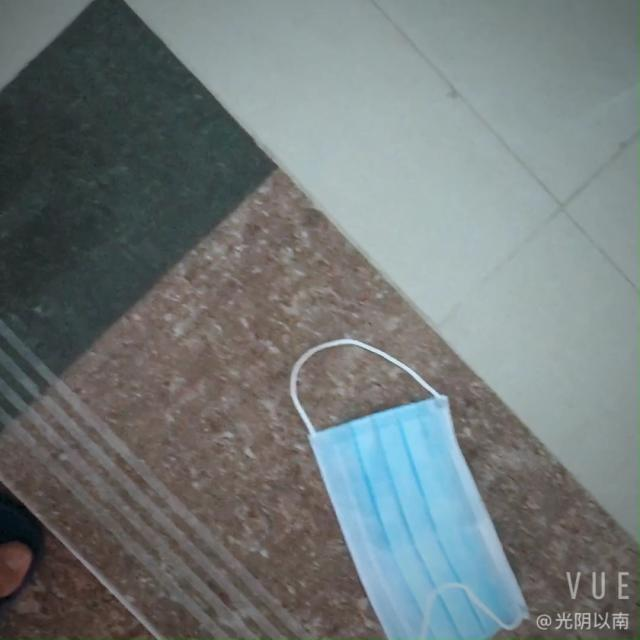non-organic waste: (311, 398, 539, 640)
